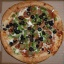olives: (41, 10, 55, 27), (6, 21, 19, 29), (8, 38, 18, 46), (33, 35, 44, 42), (20, 34, 25, 46), (27, 27, 35, 34), (27, 45, 35, 52), (25, 10, 33, 17), (29, 14, 36, 20)
pizza: (2, 2, 61, 61)
